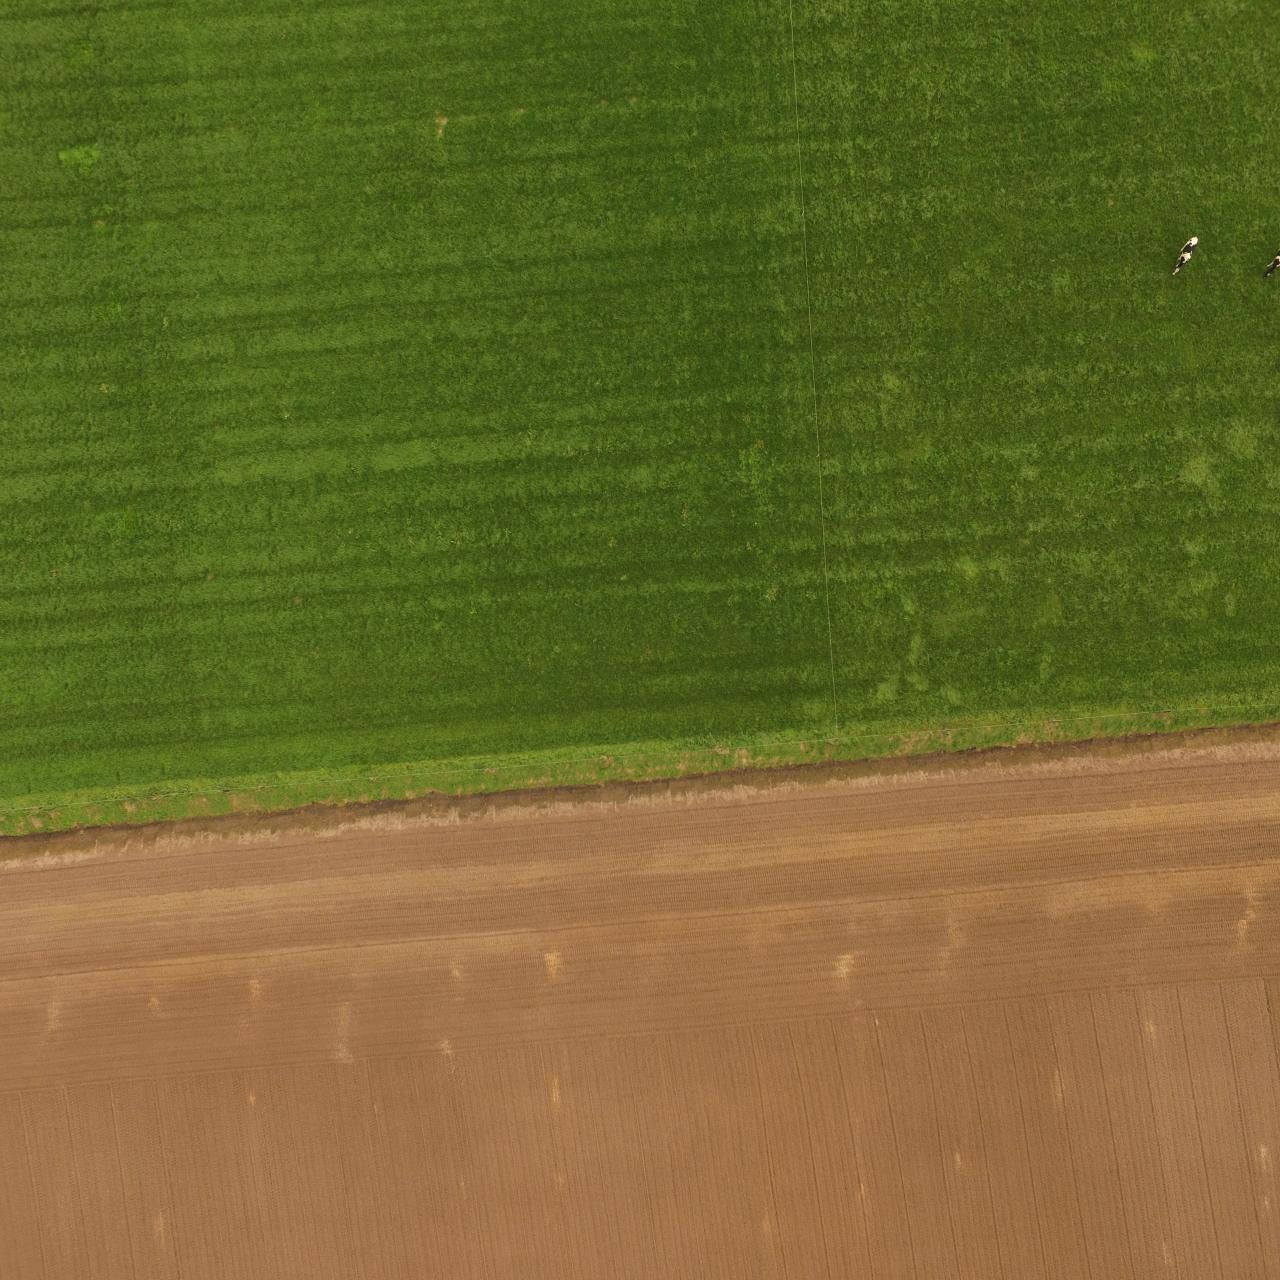cow: (1171, 234, 1197, 277)
